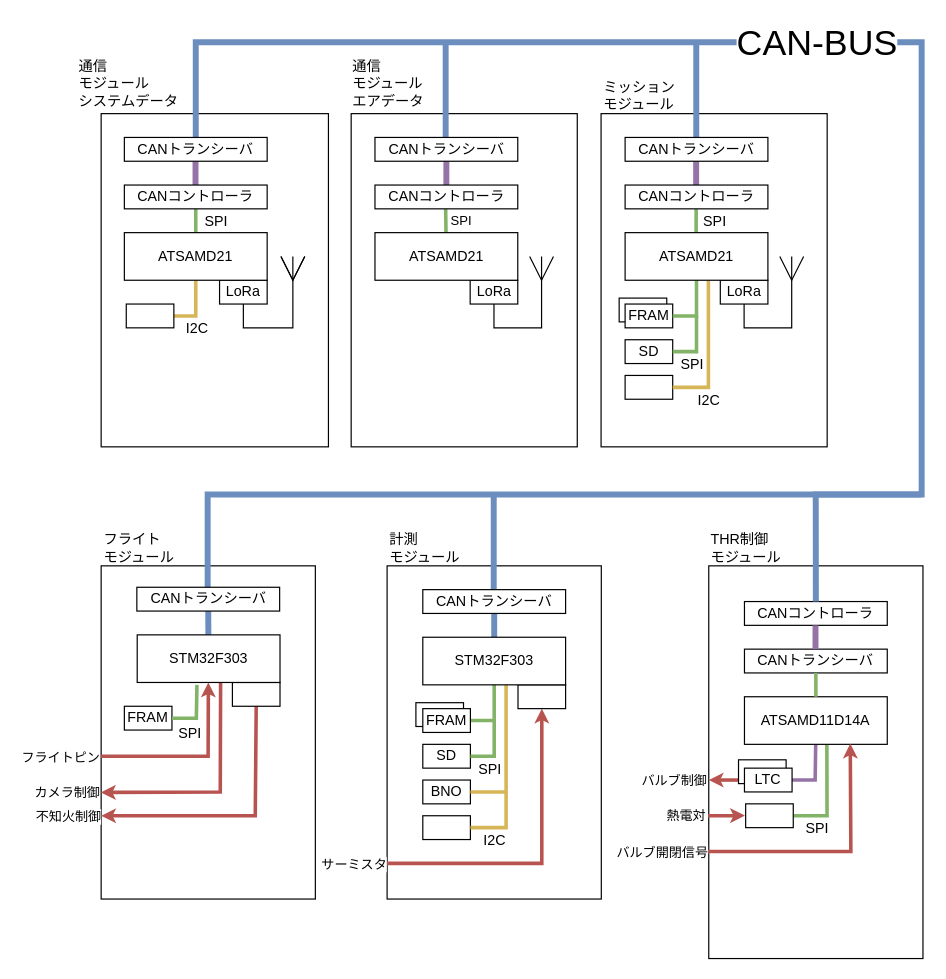
This 946x979 diagram has some shape labels left out. The shapes that lost their labels are listed below. From the top down, each one's centre as x and y in pixels, then its label:
point (149, 315): GPS
point (648, 386): ADXL
point (255, 693): SSR
point (541, 696): ADC
point (446, 827): BME
point (768, 815): MAX
